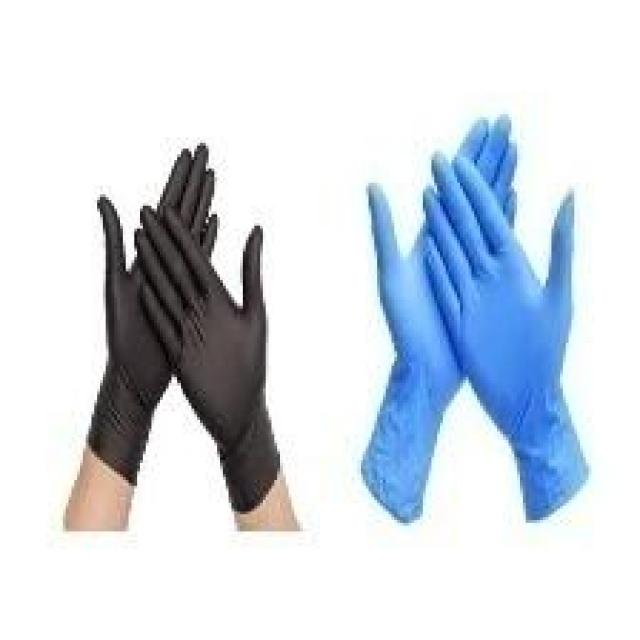Glove: (348, 95, 600, 548), (58, 77, 320, 504)
